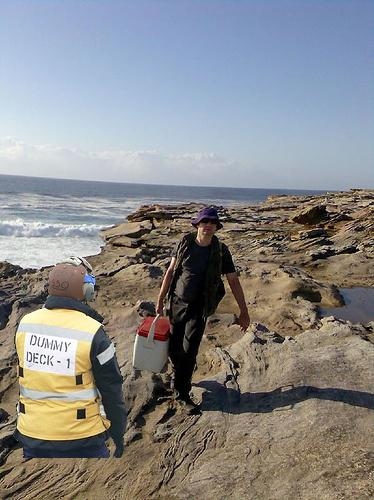tampered: (14, 257, 127, 458)
